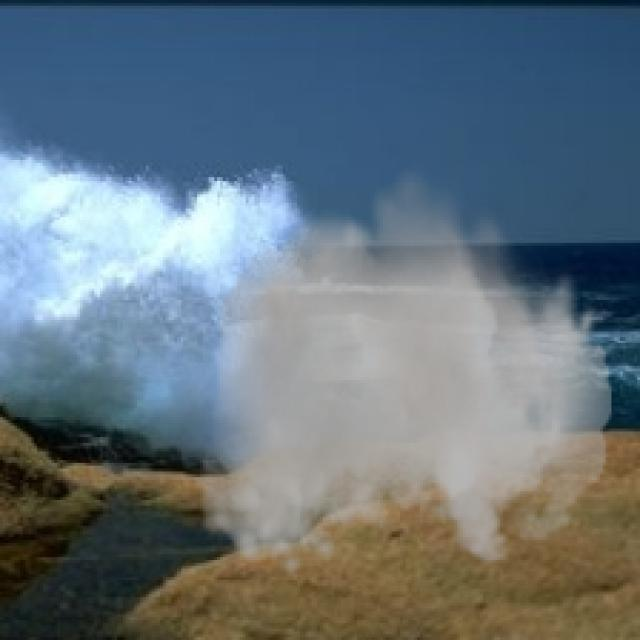Smoke: (197, 160, 612, 577)
